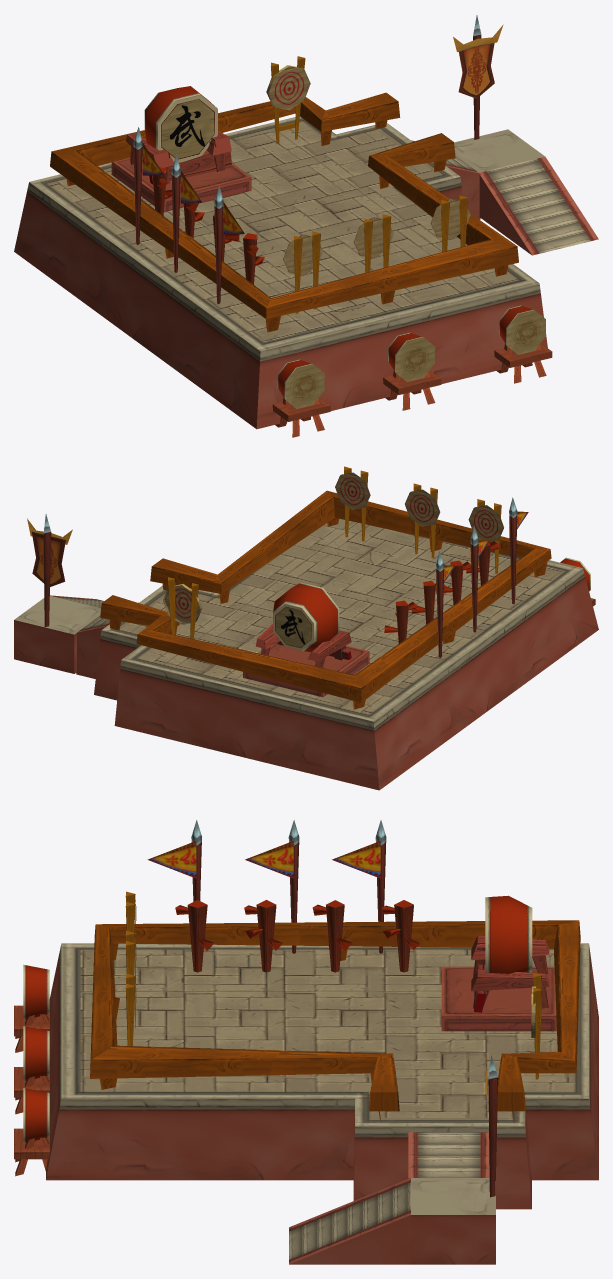
The model's file is Warrior_low.FBX.
The picture shows the model from 3 angles, top to bottom: view 1: azimuth 30°, elevation 25°; view 2: azimuth 150°, elevation 25°; view 3: azimuth 270°, elevation 25°; orthographic projection. The views are drawn at different scales.
Visible parts, largest first — view 1: Object09; view 2: Object09; view 3: Object09.
Part boxes in pixels (x1,y1,x2,y2): Object09: [14, 15, 598, 437]; Object09: [14, 466, 598, 790]; Object09: [14, 820, 598, 1264].
Bounding box in the file's own units: 104 × 103 × 42.79.
